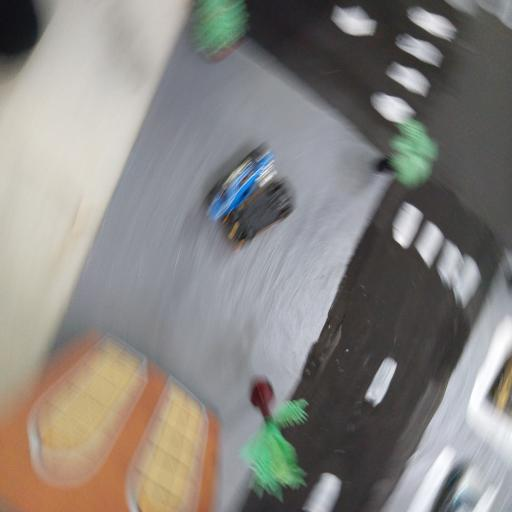car crash: (203, 134, 301, 252)
